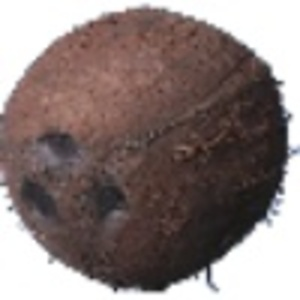coco: (1, 6, 300, 294)
